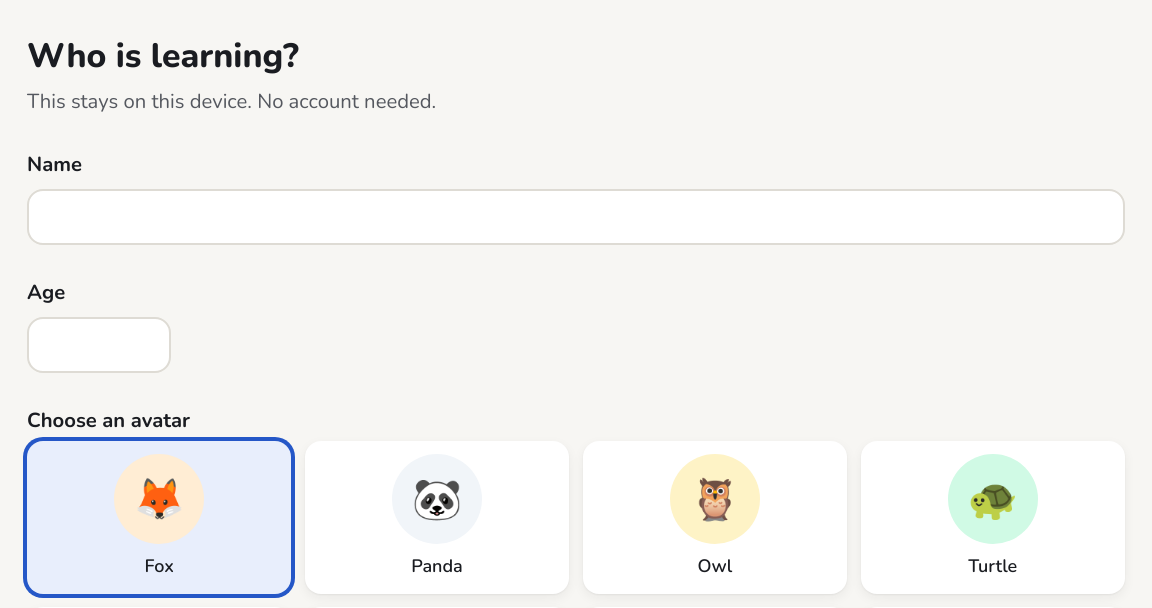
Test case: creating a learner › only accepts digits in the age field
This screenshot has width=1152, height=608.
Type "1a5b" into the field labelled "Age" at {"x": 99, "y": 345}, box x1=27 y1=317 x2=171 y2=373
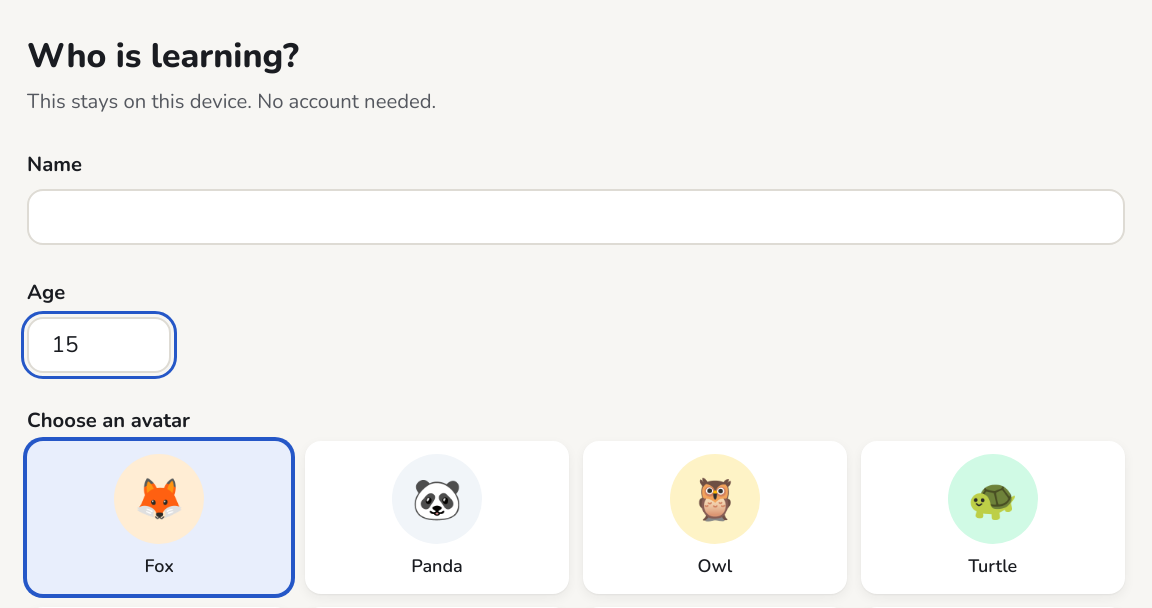
Result: the field labelled "Age" holds "15" at x1=27 y1=317 x2=171 y2=373
